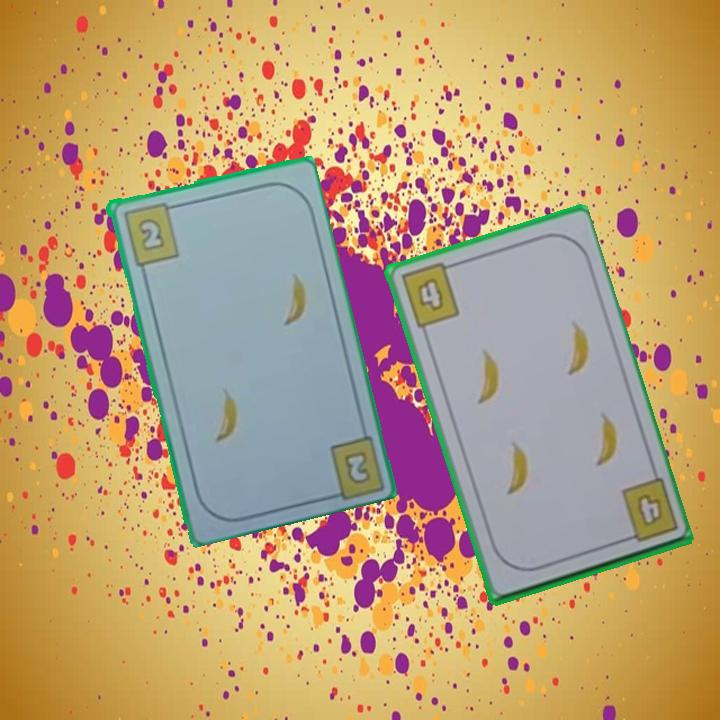2b: (119, 198, 182, 268), (340, 447, 374, 487)
4b: (397, 259, 462, 331), (616, 475, 681, 545)
